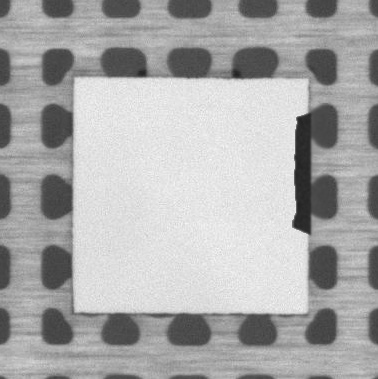DIE_BROKEN: (290, 108, 313, 238)
